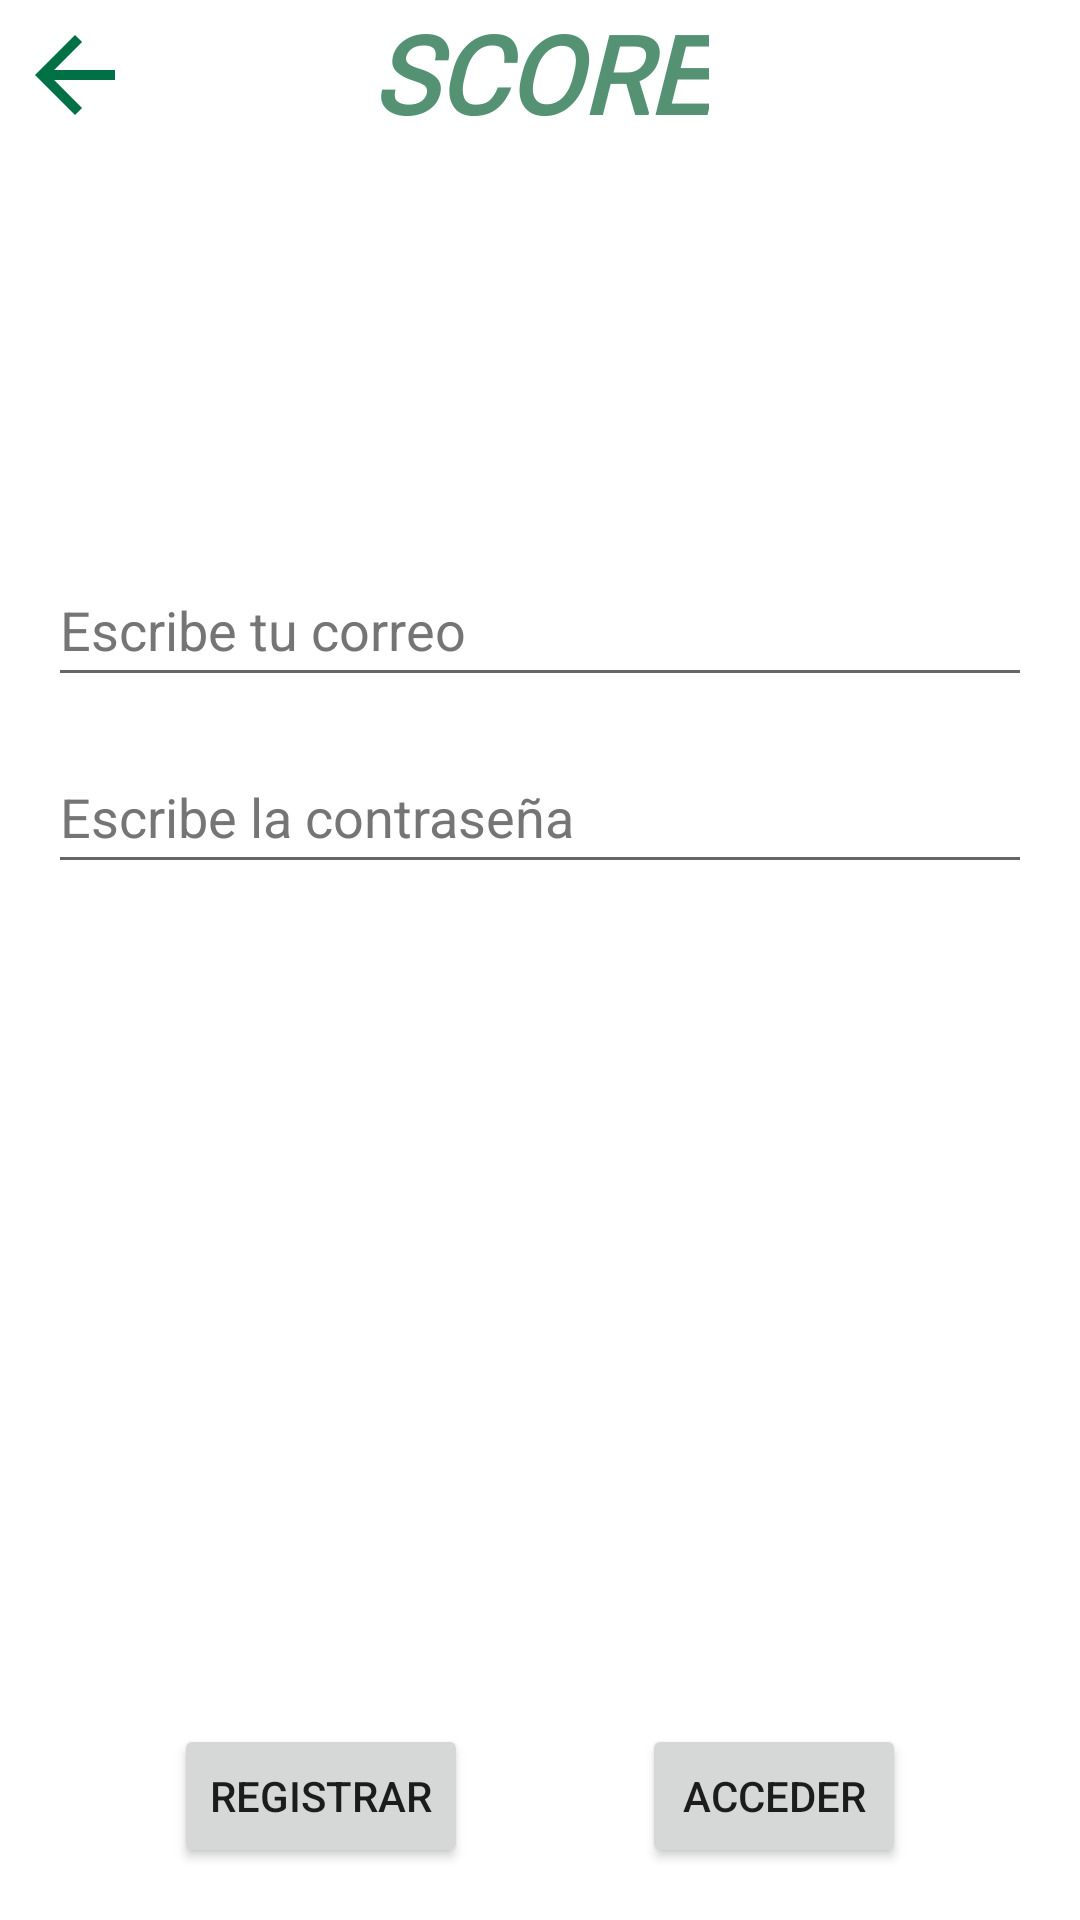

Point at icon controls on the screen. Image size 1080 x 1920, points as (x,y).
Vuelta a profile: (75,75)
